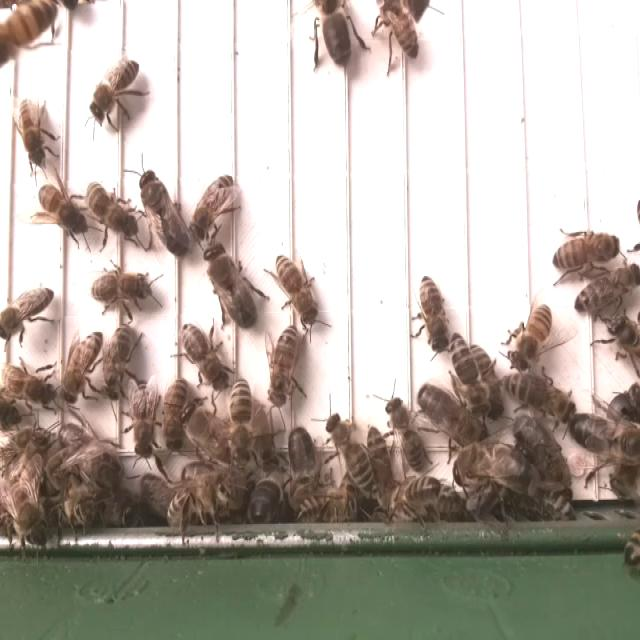Drone: (202, 240, 262, 331), (413, 383, 491, 451), (138, 164, 191, 260), (566, 404, 640, 470)
Worker: (570, 259, 640, 322), (502, 367, 577, 420), (0, 280, 59, 346), (325, 410, 371, 494), (88, 58, 145, 125), (59, 330, 105, 410), (274, 250, 321, 328), (85, 180, 140, 244), (383, 392, 425, 474), (179, 321, 230, 388), (191, 171, 238, 243), (549, 230, 621, 276), (101, 320, 139, 407), (36, 180, 90, 239), (0, 361, 62, 412), (450, 330, 487, 415), (414, 271, 450, 357), (512, 298, 554, 371), (89, 266, 155, 312), (129, 370, 159, 467), (269, 323, 302, 410), (228, 372, 255, 473), (162, 374, 194, 458), (14, 94, 49, 170)
